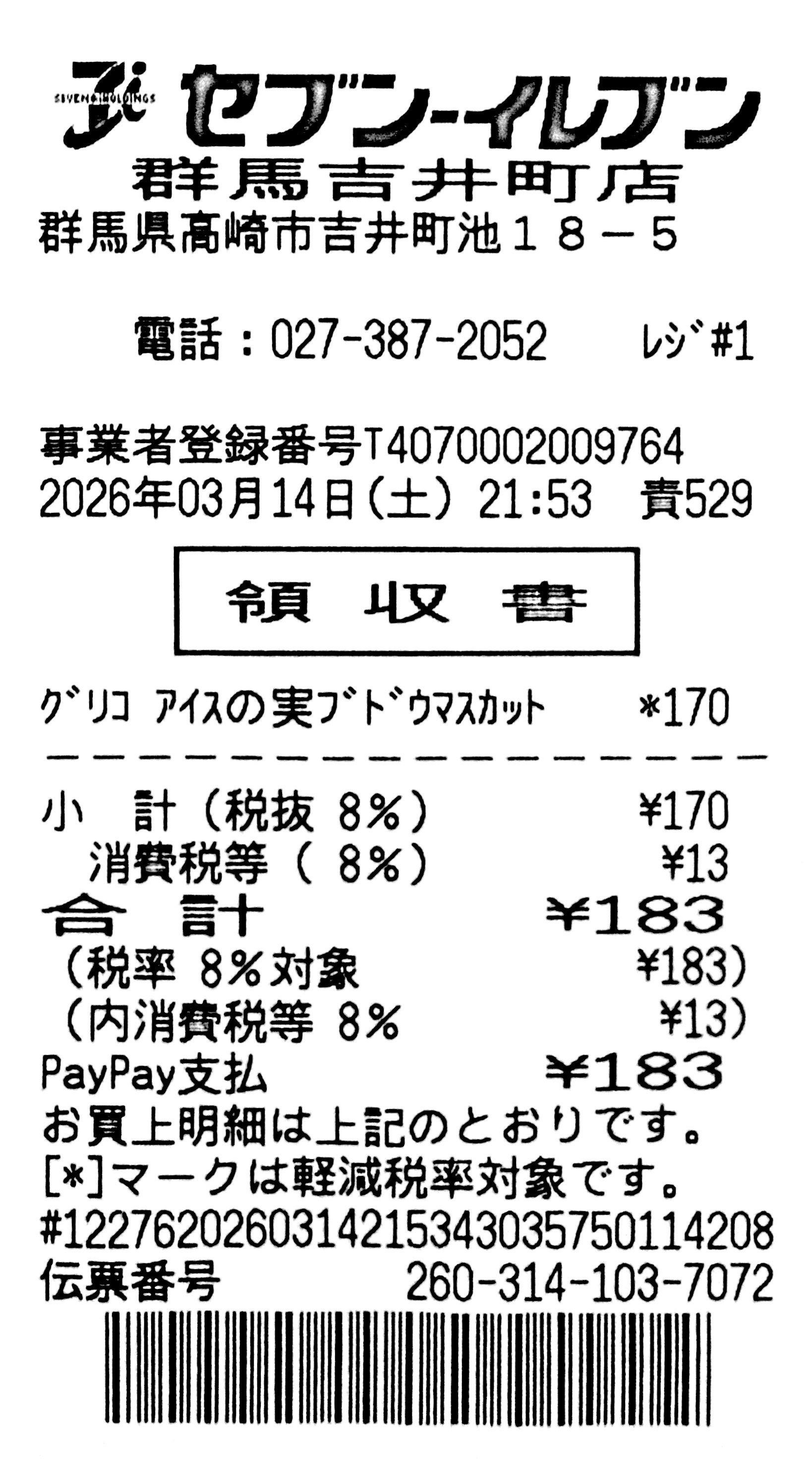Date: (40, 477, 353, 521)
Pay: (41, 890, 725, 938)
Shopname: (180, 64, 761, 150)
Telnum: (270, 316, 549, 363)
